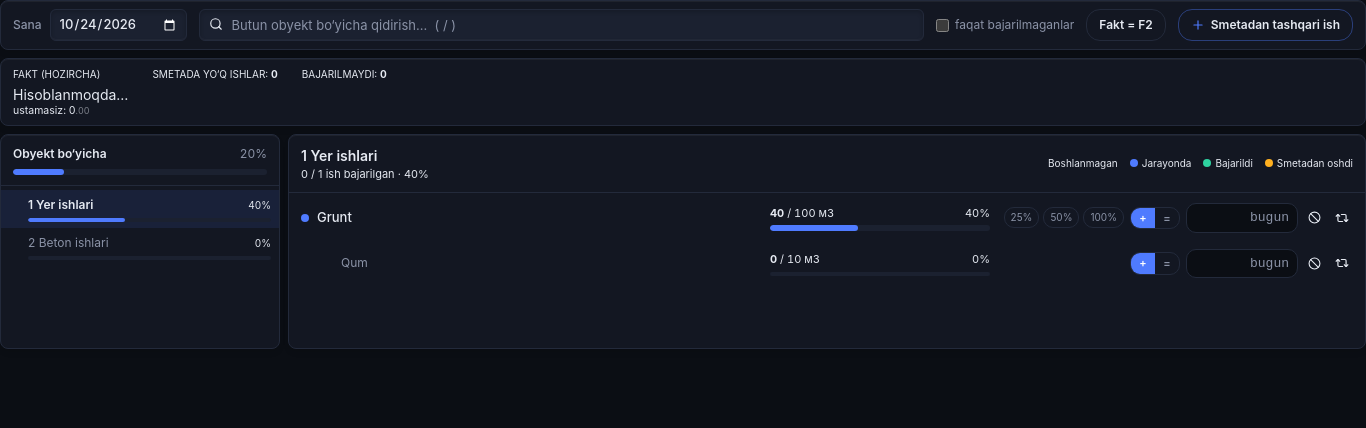
it: FaktJurnal › xato qiymat — saqlash o‘chiq
Type "abc" into the field named "Bugun bajarildi: Grunt" at (1242, 218), box [1186,203,1298,233]
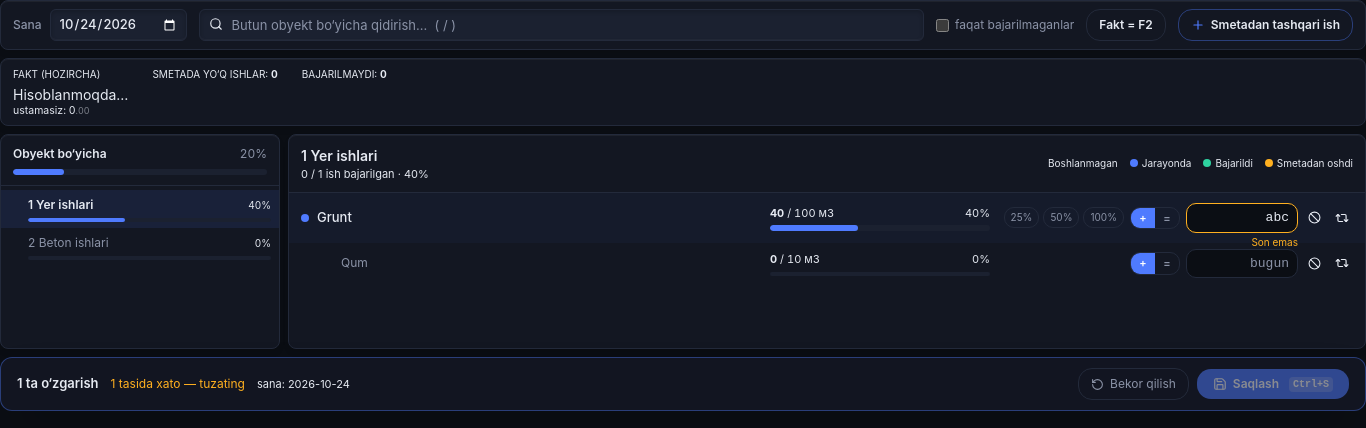
Expected: the button "Saqlash Ctrl+S" is disabled, [1197,369,1349,399]
Expected: the text "Son emas" is shown, [1251,235,1298,250]
